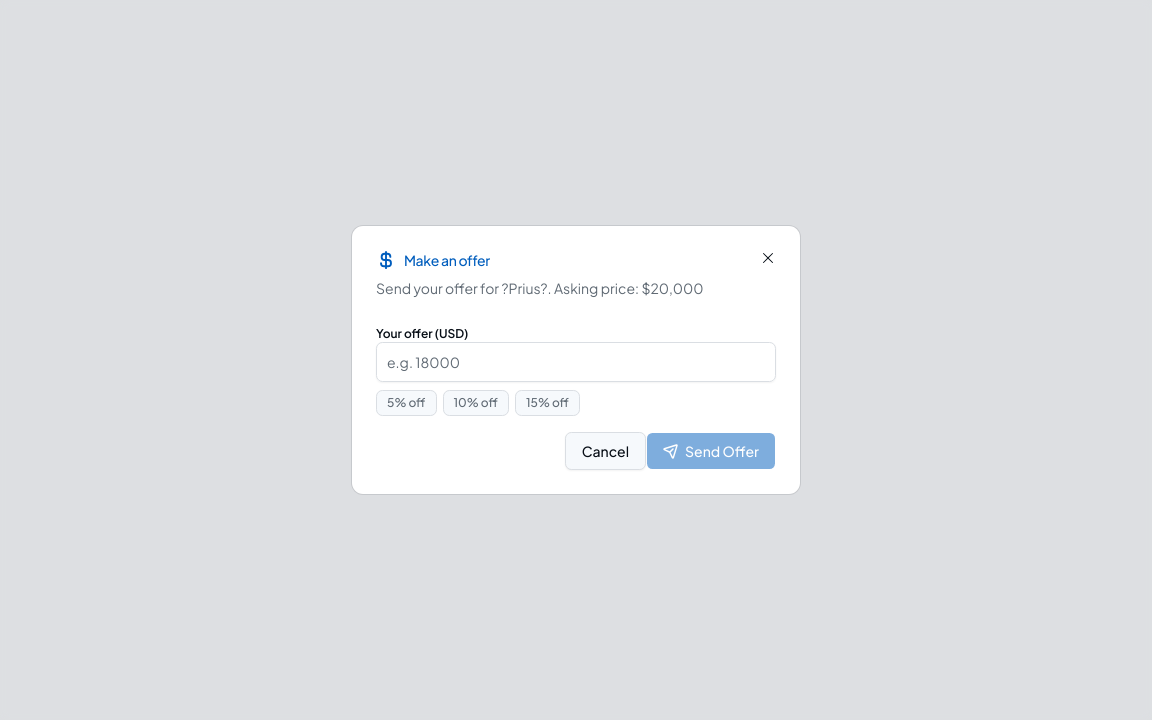
Test: <ListingMakeOfferDialog /> › does not submit an empty or non-positive amount and never fakes success on failure
This screenshot has width=1152, height=720.
Expected: the button "Send Offer" is disabled, [646,432,776,470]
Type "0" into the number field labelled "Your offer (USD)" at [576, 362], box [376,342,776,382]
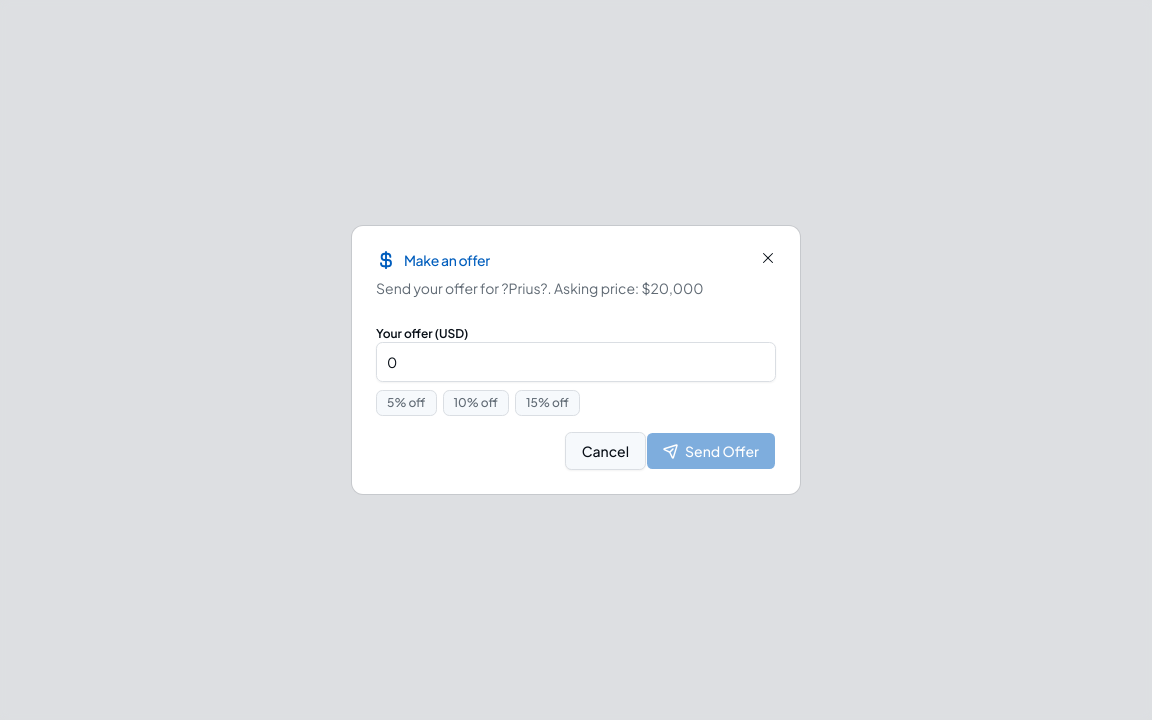
Expected: the button "Send Offer" is disabled, [646,432,776,470]
Replace the text in the number field labelled "Your offer (USD)" with "100" at [576, 362], box [376,342,776,382]
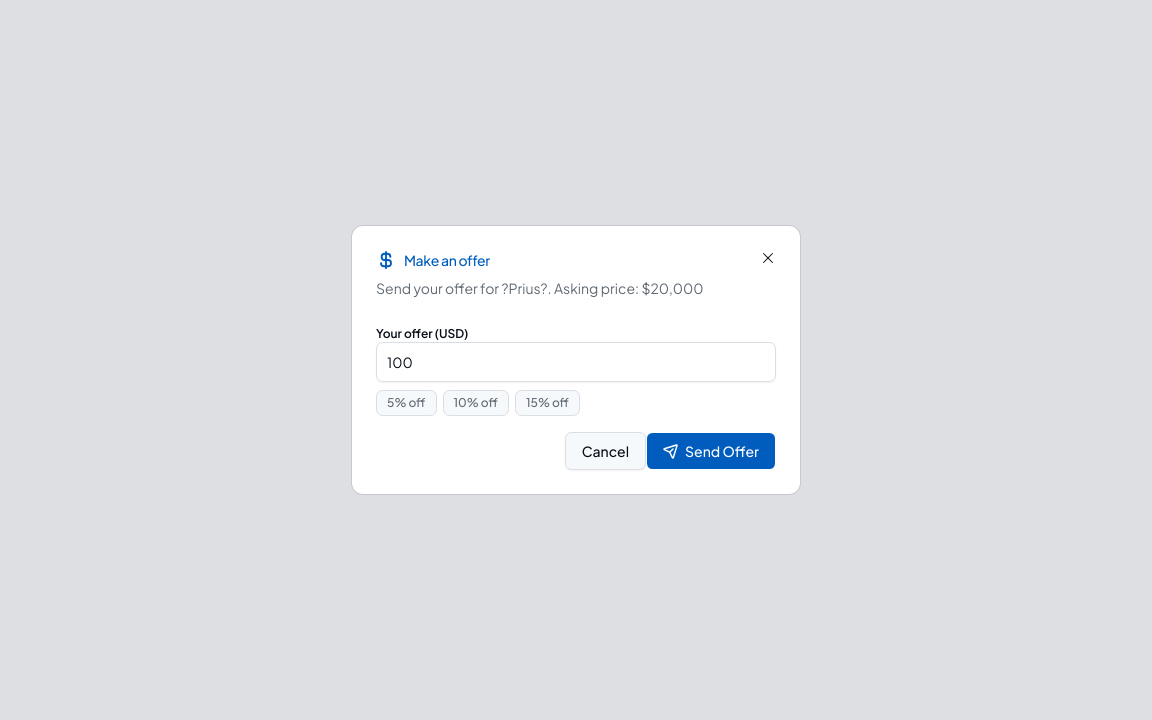
Click the button "Send Offer" at [711, 451], box [646,432,776,470]
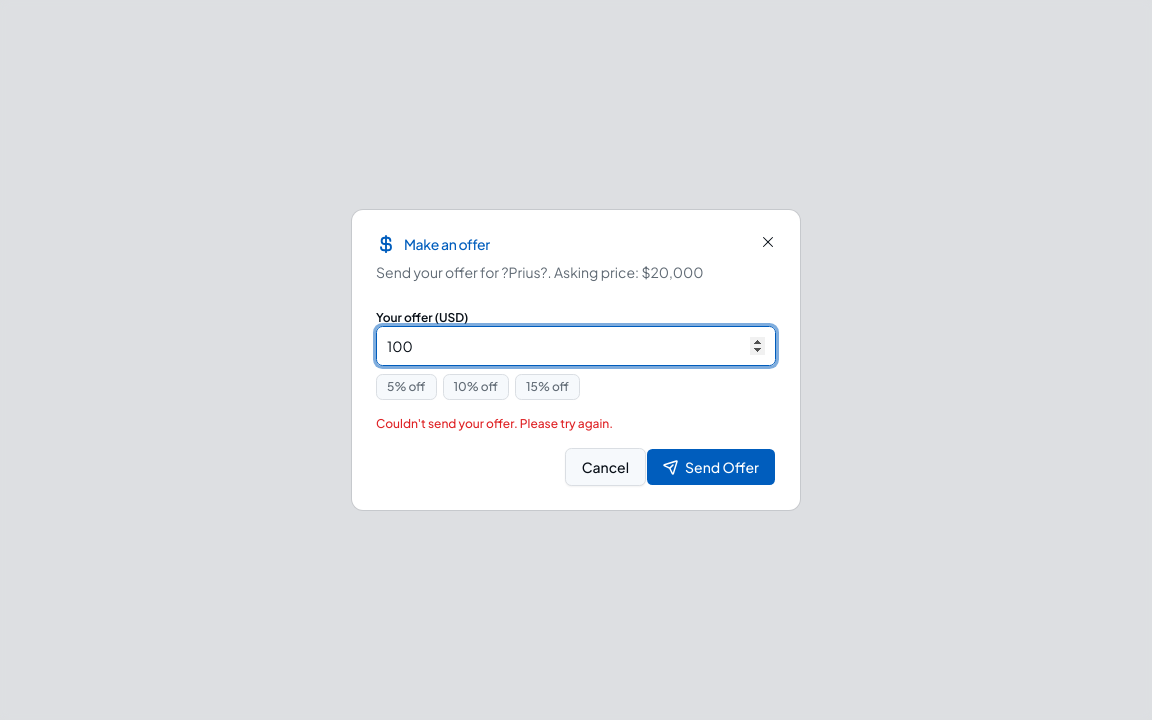
Expected: the message shows "Couldn't send", [376,416,613,431]
